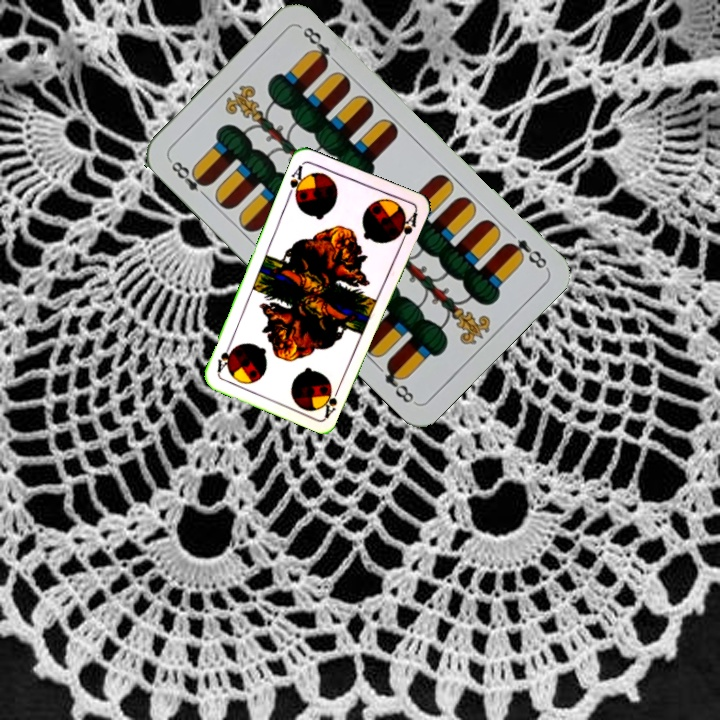E8: (165, 155, 212, 202), (501, 235, 550, 271)
SA: (283, 161, 309, 202), (320, 380, 344, 419)
